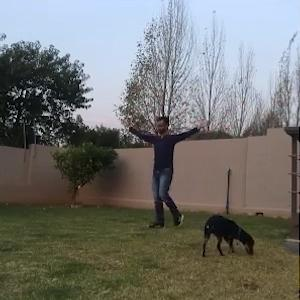takeoff: (131, 111, 242, 237)
